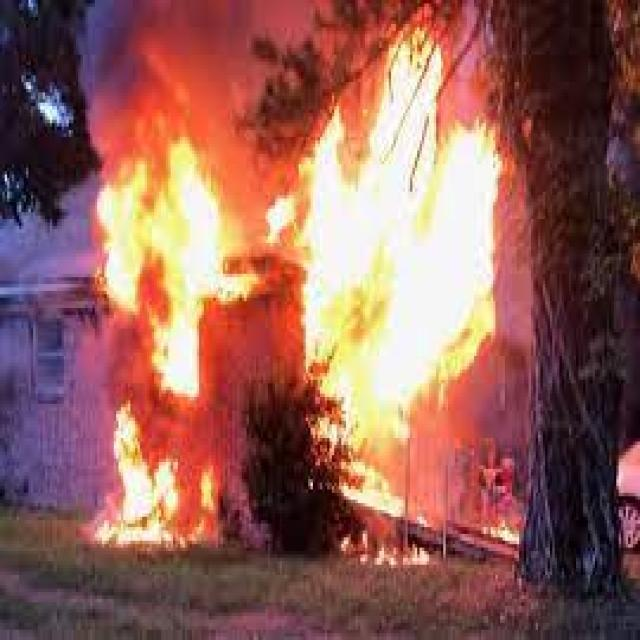Fire: (311, 120, 498, 438), (95, 208, 246, 546)
Smoke: (96, 0, 330, 232)
